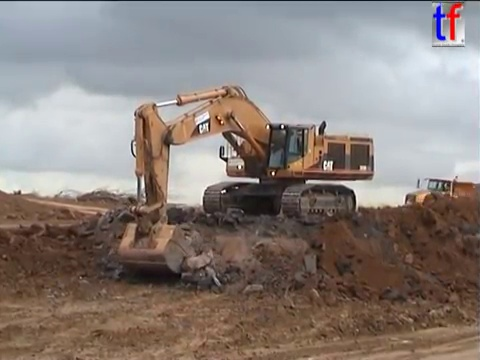excavator: (115, 82, 376, 281)
truck: (402, 174, 480, 216)
